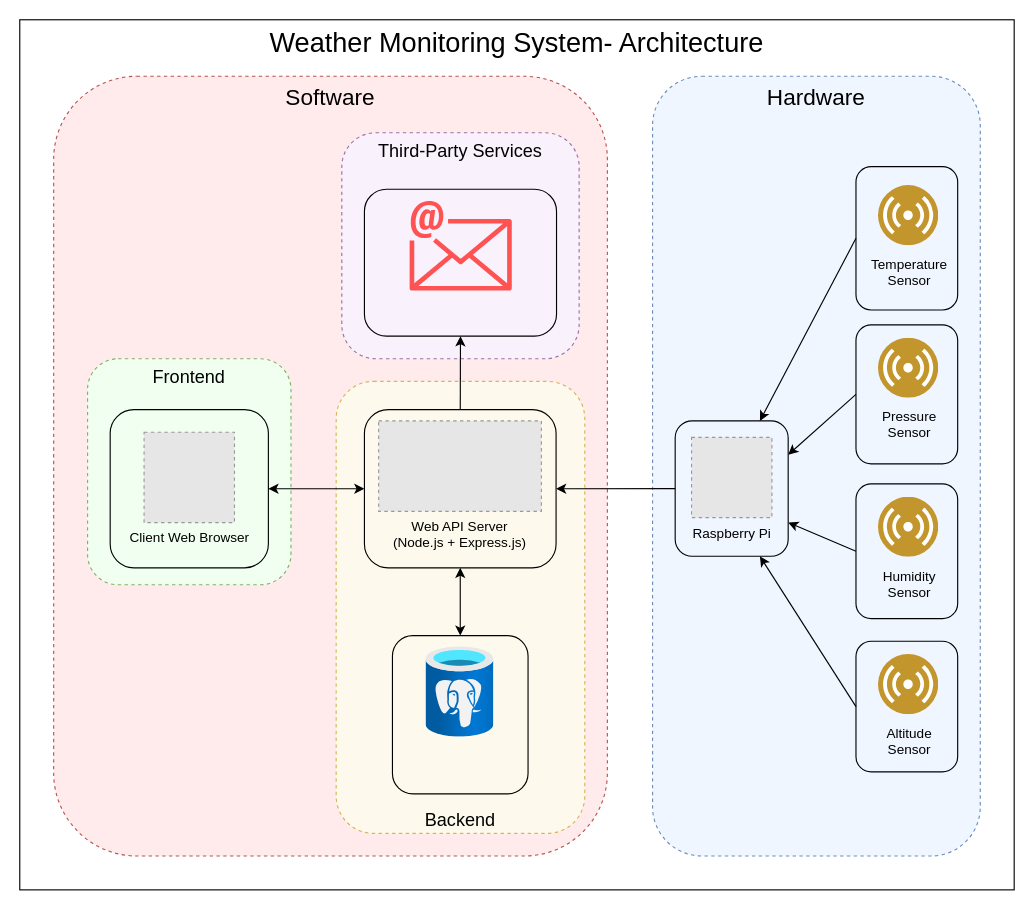
The diagram is 1034 pixels wide and 910 high, and some of its shapes have lost their labels. Grey dashed boxes stand in for pictures. The shapes that lost their labels are listed below. From the top down, each one's centre as x and y in pixels, then its label:
point 460,245: Email Notification Service
point 459,691: Database (PostgreSQL)
